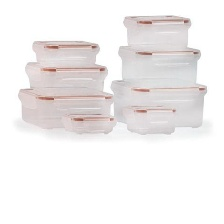plastic_box: (105, 74, 211, 133), (14, 82, 116, 133), (114, 40, 204, 91), (20, 57, 110, 100), (118, 11, 195, 55), (28, 34, 103, 71), (118, 100, 180, 137), (57, 109, 119, 137)
